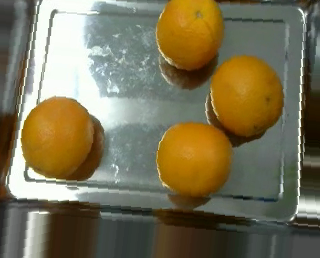Orange: (210, 54, 285, 136), (22, 96, 94, 179), (156, 121, 234, 197), (155, 1, 226, 71)
